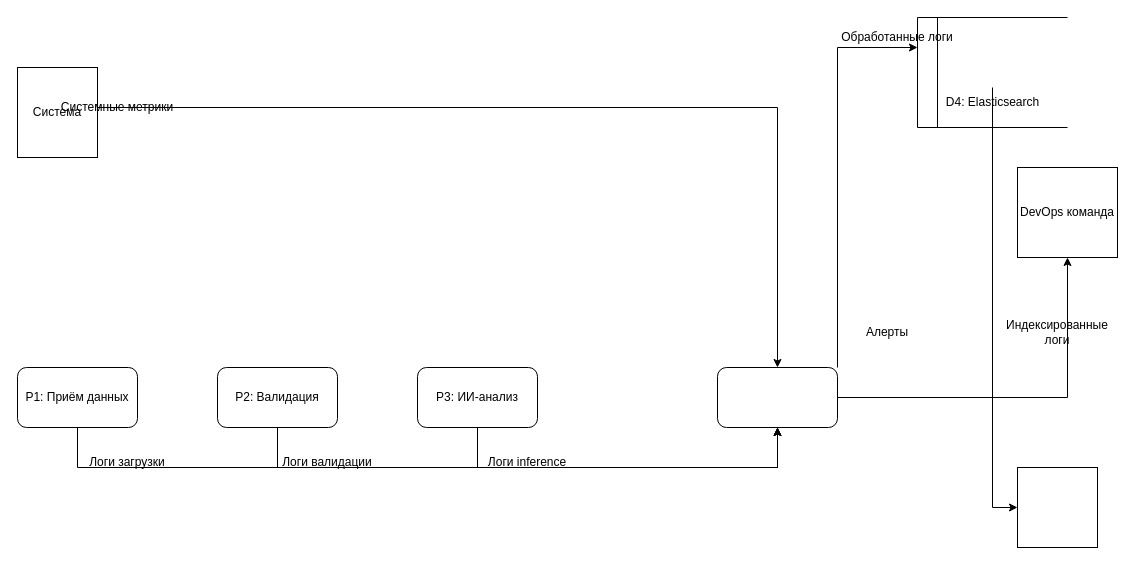
The diagram is 1140 pixels wide and 565 high, and some of its shapes have lost their labels. Here are the shapes that lost their labels. From the top down, the centre of each, then its label:
At point (777, 397): "P4: Логирование".
At point (1057, 507): "Kibana".
